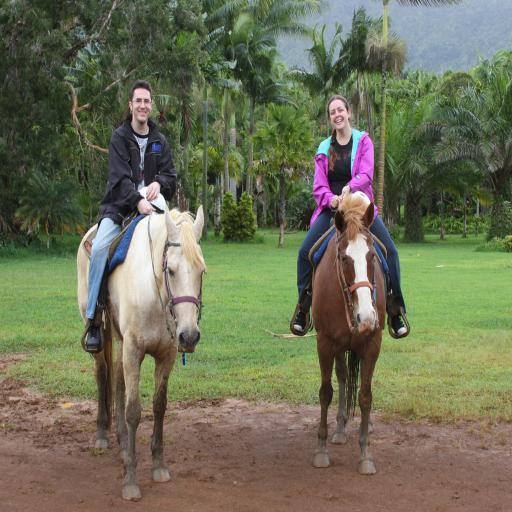horse: (75, 198, 205, 506), (313, 192, 387, 478)
